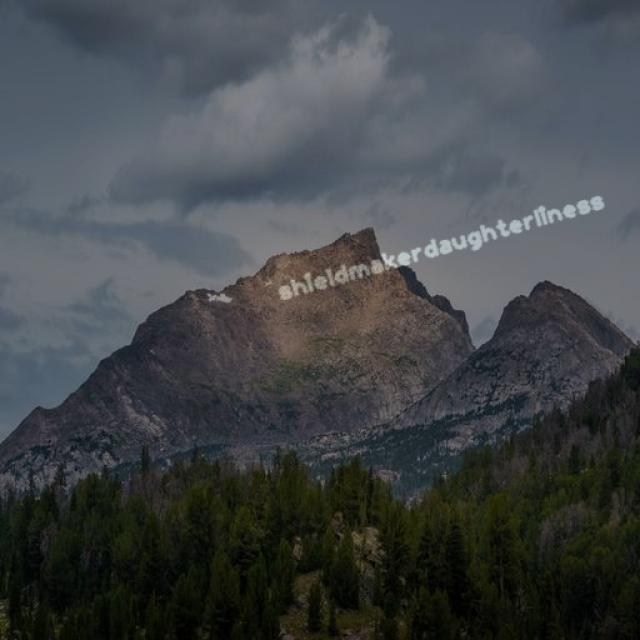watermark: (274, 190, 607, 303)
